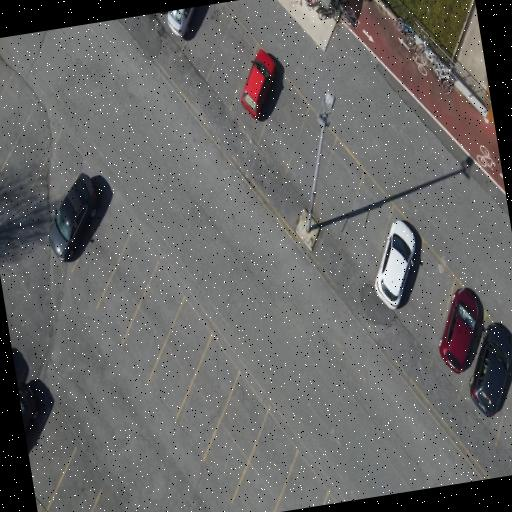harvester: (416, 40, 440, 66), (396, 18, 415, 47), (432, 63, 451, 80), (442, 72, 455, 94)
person: (49, 174, 97, 261), (470, 324, 511, 416), (375, 220, 415, 309), (439, 288, 479, 373), (241, 49, 275, 119), (18, 383, 38, 432), (168, 7, 196, 36)
